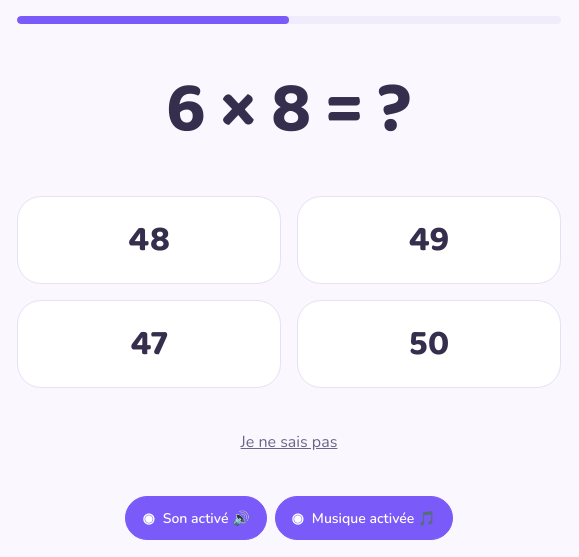
PlayScreen — son : SFX bonne réponse/combo + musique de fond (story 8.4, #257 AC #1) › MUTATION-PROOF (AC #1) : 1ʳᵉ bonne réponse (sous le seuil combo) → SFX 'correct', jamais 'combo'
Expected: the text "6 × 8 = ?" is shown, x1=166 y1=56 x2=412 y2=164
Click the button "48" at (149, 240), box x1=17 y1=196 x2=281 y2=284
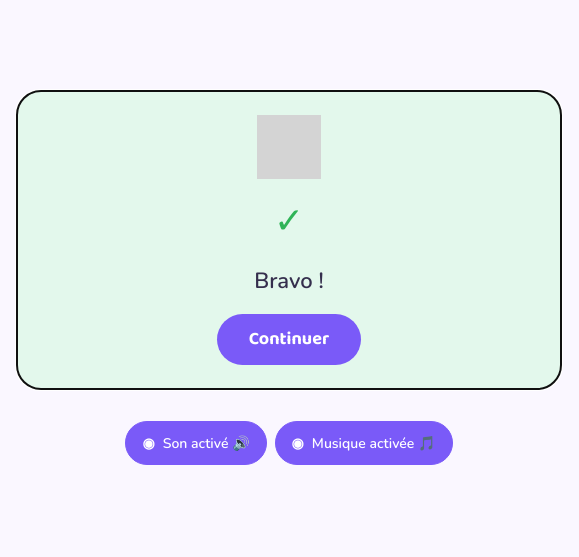
Expected: the message "✓ Bravo !" is shown, x1=17 y1=91 x2=561 y2=389
